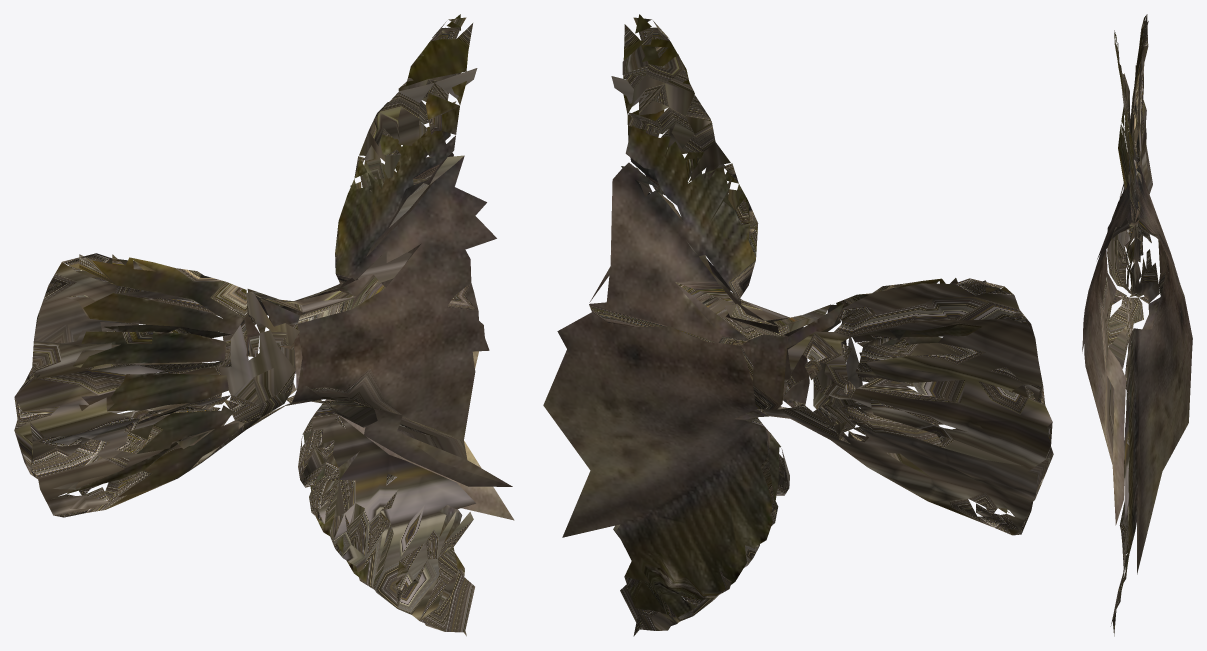
The model's file is filefish_b.glb.
3 views of the same model, side by side, from view 1: azimuth 30°, elevation 25°; view 2: azimuth 150°, elevation 25°; view 3: azimuth 270°, elevation 25° (orthographic). The views are drawn at different scales.
Visible parts, largest first — view 1: filefish_b; view 2: filefish_b; view 3: filefish_b.
Part boxes in pixels (x1=…): filefish_b: x1=14, y1=14, x2=514, y2=636; filefish_b: x1=543, y1=14, x2=1053, y2=636; filefish_b: x1=1082, y1=14, x2=1192, y2=636.
Bounding box in the file's own units: 0.2558 × 0.3078 × 0.0514.
Materials: 1 (1 with a texture image).
